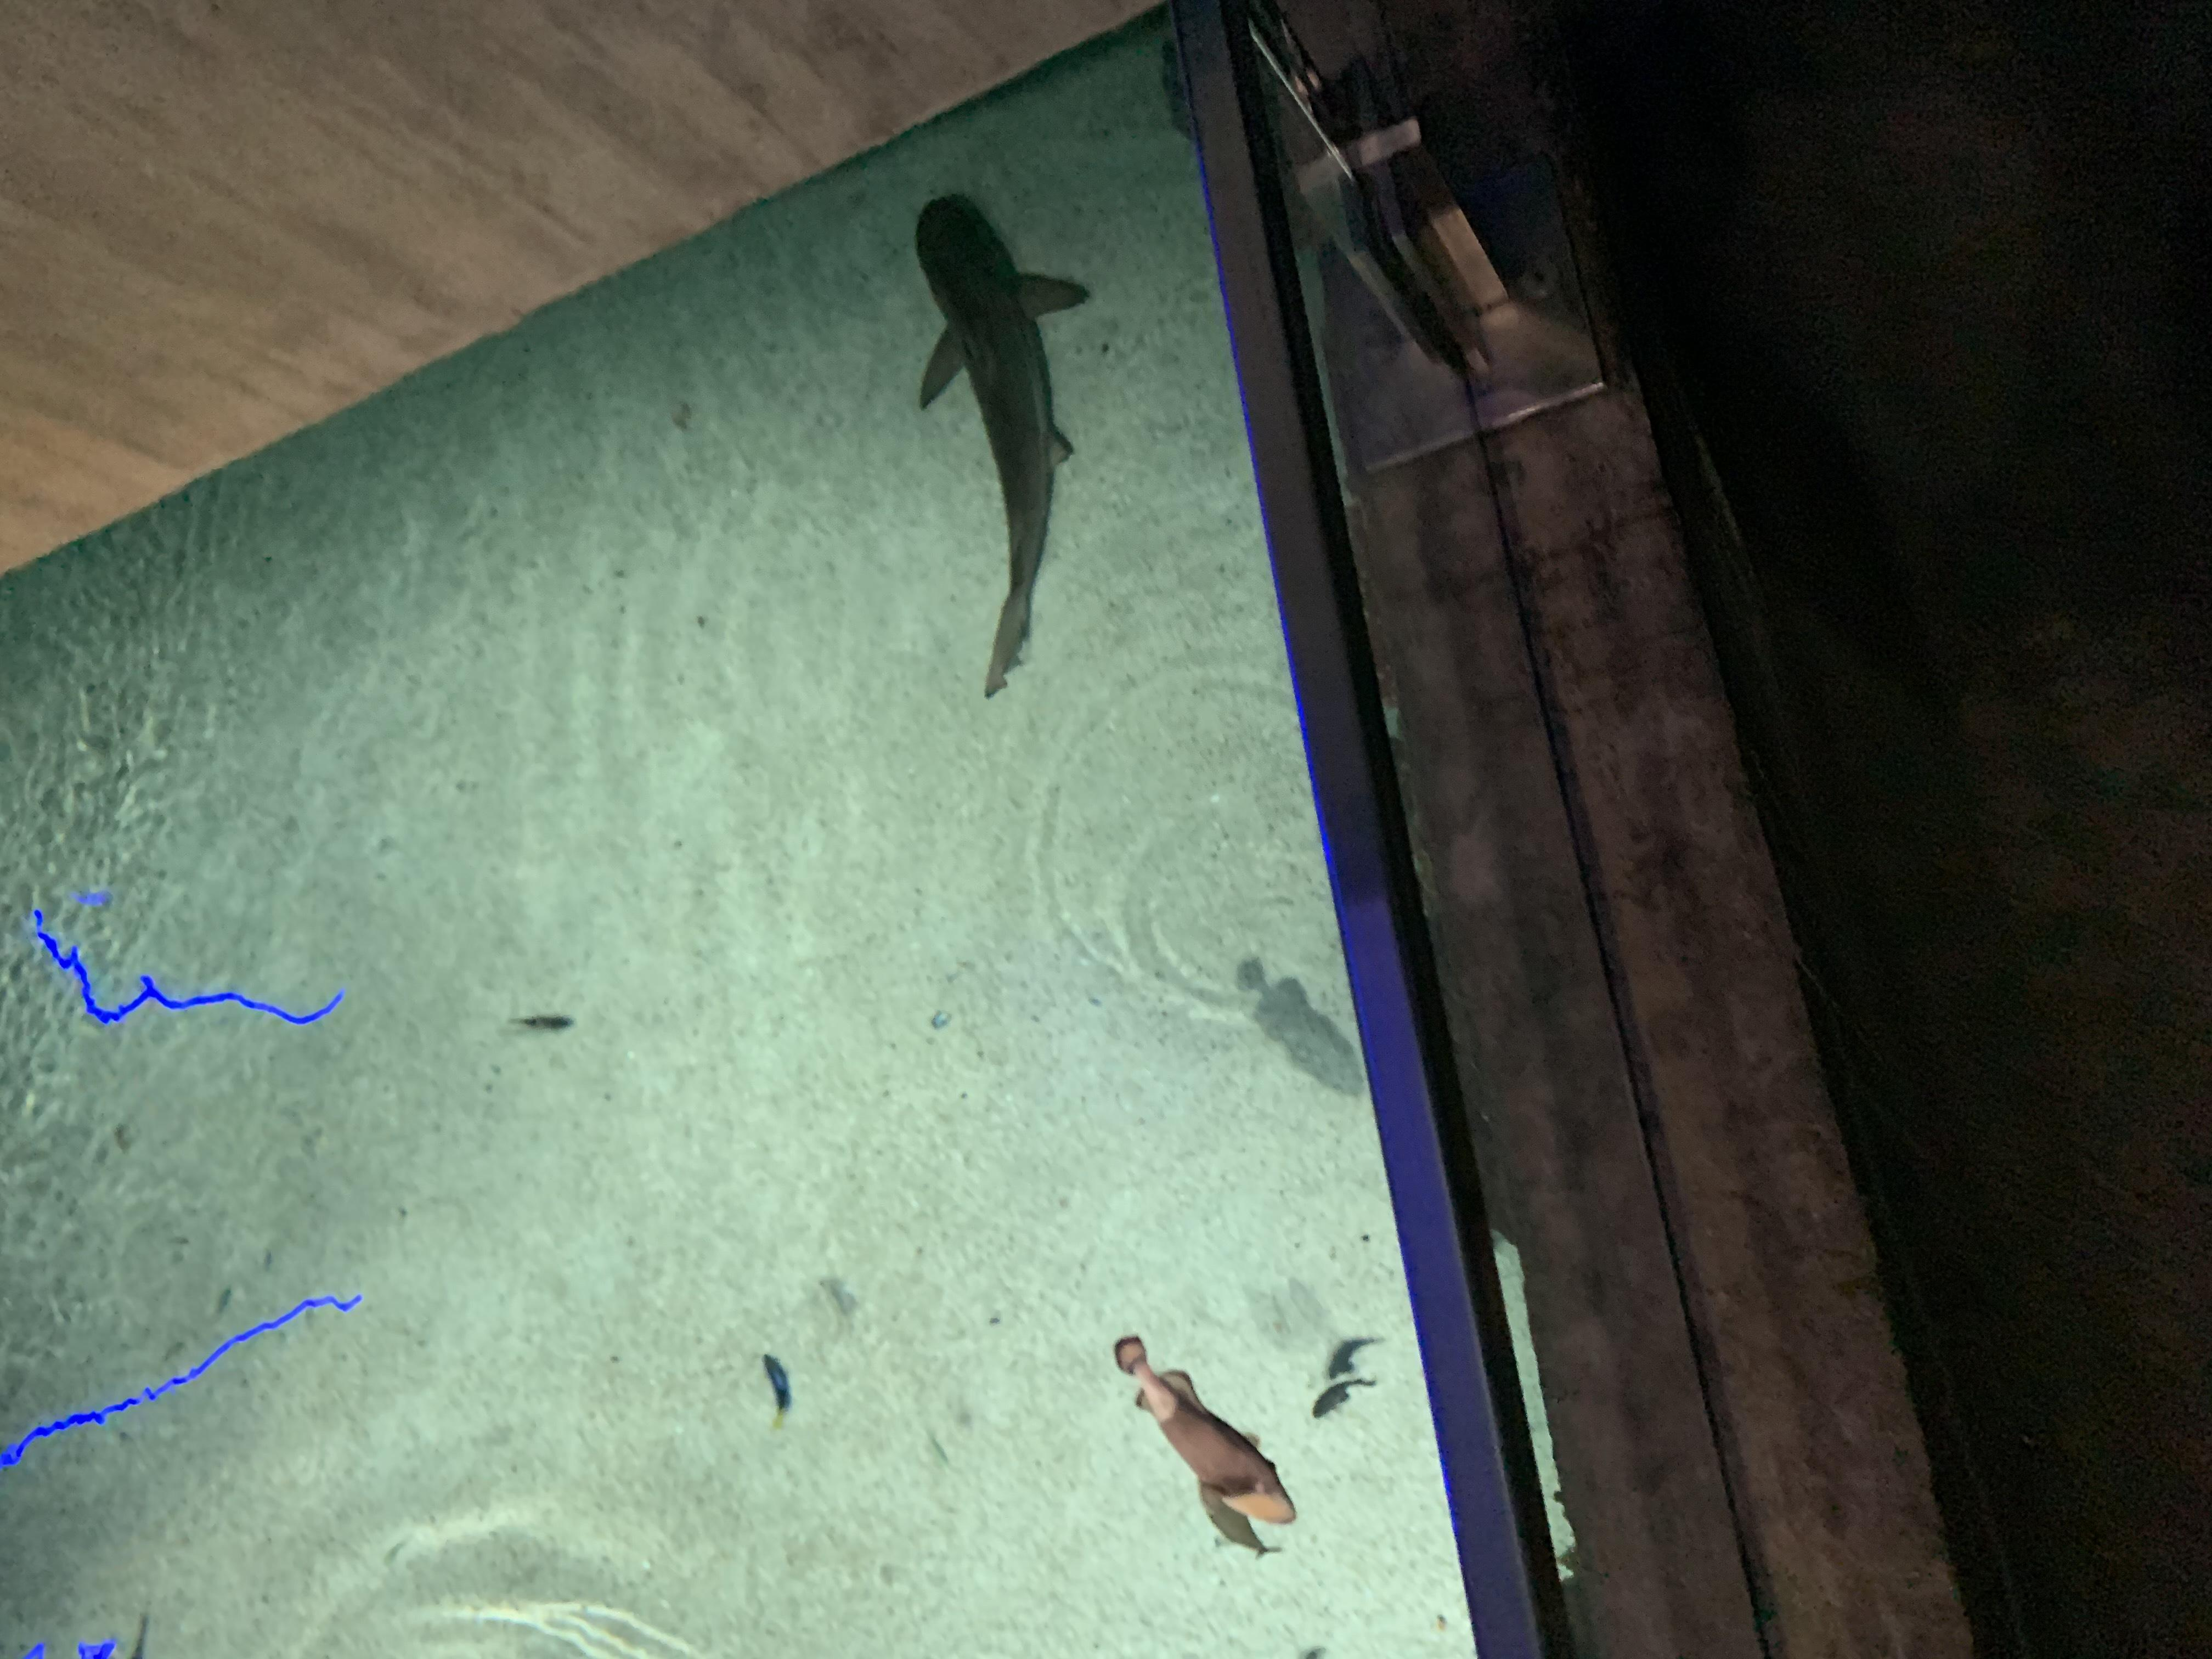fish: (1096, 1324, 1306, 1547), (1221, 950, 1369, 1121), (1198, 1481, 1277, 1565), (752, 1352, 806, 1438), (498, 1004, 577, 1040)
shark: (911, 195, 1094, 701)
